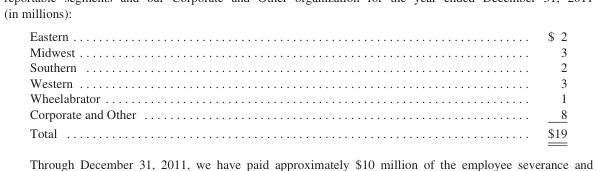table: (28, 28, 566, 139)
table column: (28, 28, 341, 139), (341, 28, 566, 139)
table row: (28, 105, 566, 123), (28, 43, 566, 59), (28, 74, 566, 90), (28, 123, 566, 139), (28, 28, 566, 43), (28, 59, 566, 74), (28, 90, 566, 105)
